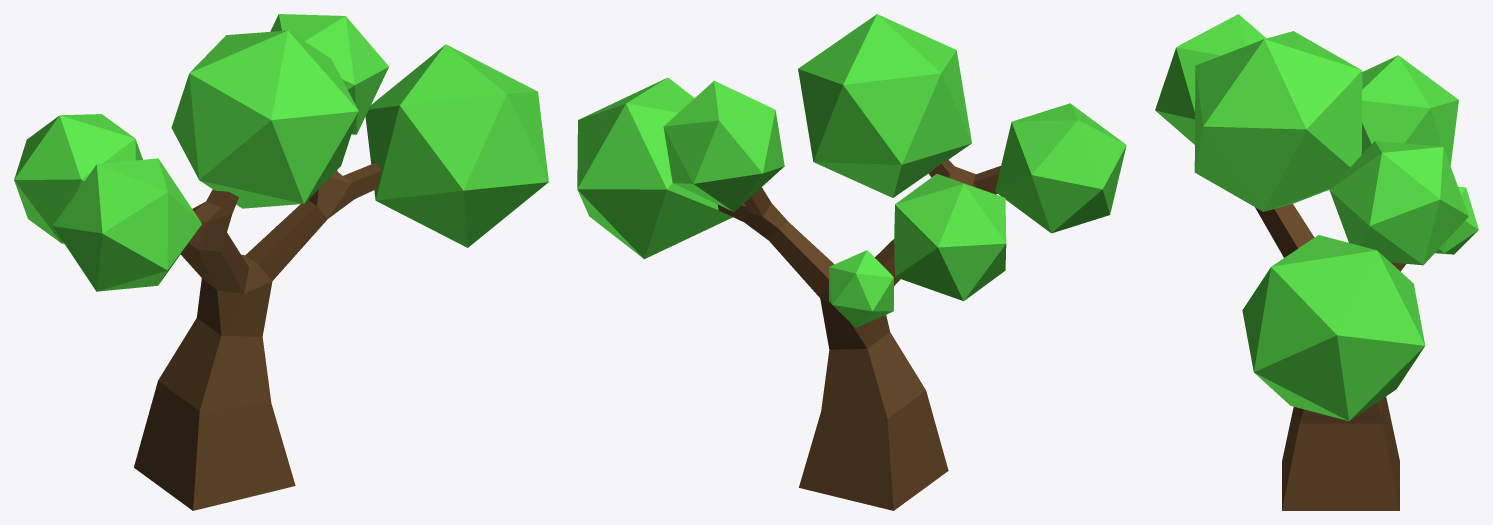
The model's file is tree.fbx.
The picture shows the model from 3 angles, left to right: view 1: azimuth 30°, elevation 25°; view 2: azimuth 150°, elevation 25°; view 3: azimuth 270°, elevation 25°; orthographic projection. The views are drawn at different scales.
Parts seen in each view (by area): view 1: Cube, Icosphere, Icosphere.006, Icosphere.003, Icosphere.002, Icosphere.001; view 2: Cube, Icosphere.006, Icosphere, Icosphere.003, Icosphere.002, Icosphere.001, Icosphere.004; view 3: Icosphere, Icosphere.006, Cube, Icosphere.001, Icosphere.002, Icosphere.003, Icosphere.004.
Part boxes in pixels (x1=…): Cube: x1=134, y1=162, x2=381, y2=510; Icosphere: x1=365, y1=44, x2=548, y2=247; Icosphere.006: x1=171, y1=30, x2=358, y2=208; Icosphere.003: x1=53, y1=158, x2=201, y2=291; Icosphere.002: x1=14, y1=114, x2=142, y2=243; Icosphere.001: x1=270, y1=14, x2=388, y2=134; Cube: x1=717, y1=159, x2=1000, y2=510; Icosphere.006: x1=798, y1=14, x2=971, y2=197; Icosphere: x1=577, y1=77, x2=732, y2=259; Icosphere.003: x1=995, y1=103, x2=1126, y2=233; Icosphere.002: x1=894, y1=174, x2=1006, y2=301; Icosphere.001: x1=663, y1=80, x2=784, y2=211; Icosphere.004: x1=829, y1=250, x2=893, y2=327; Icosphere: x1=1242, y1=235, x2=1425, y2=420; Icosphere.006: x1=1194, y1=31, x2=1362, y2=211; Cube: x1=1255, y1=204, x2=1405, y2=510; Icosphere.001: x1=1329, y1=141, x2=1468, y2=265; Icosphere.002: x1=1361, y1=55, x2=1458, y2=165; Icosphere.003: x1=1155, y1=14, x2=1266, y2=144; Icosphere.004: x1=1435, y1=186, x2=1478, y2=254.
Size of the model in its own units: 647 by 548 by 347.
